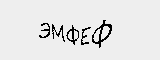Е: (80, 25, 90, 45)
М: (50, 22, 66, 44)
Ф: (90, 19, 113, 49), (66, 24, 80, 47)
Э: (34, 19, 51, 41)
